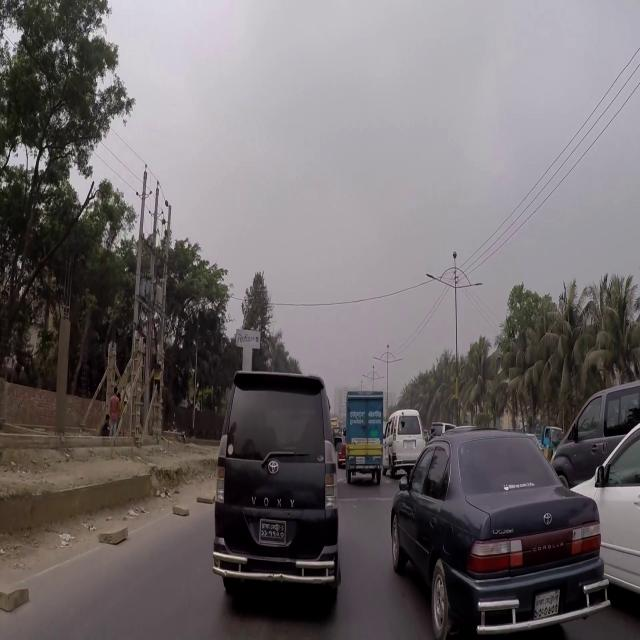black: (390, 424, 610, 638)
maroon: (212, 368, 341, 600)
silver: (559, 381, 640, 479)
white: (567, 425, 640, 598), (386, 409, 428, 474)
